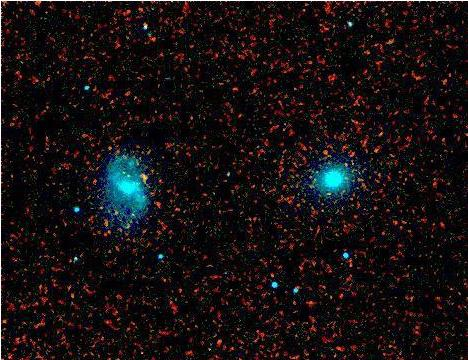star: (130, 160, 160, 190)
